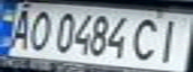0: (51, 9, 78, 54)
4: (106, 12, 136, 61), (69, 10, 97, 56)
8: (87, 11, 115, 57)
A: (3, 7, 39, 51)
C: (127, 15, 169, 63)
I: (151, 16, 190, 64)
O: (24, 7, 57, 52)
